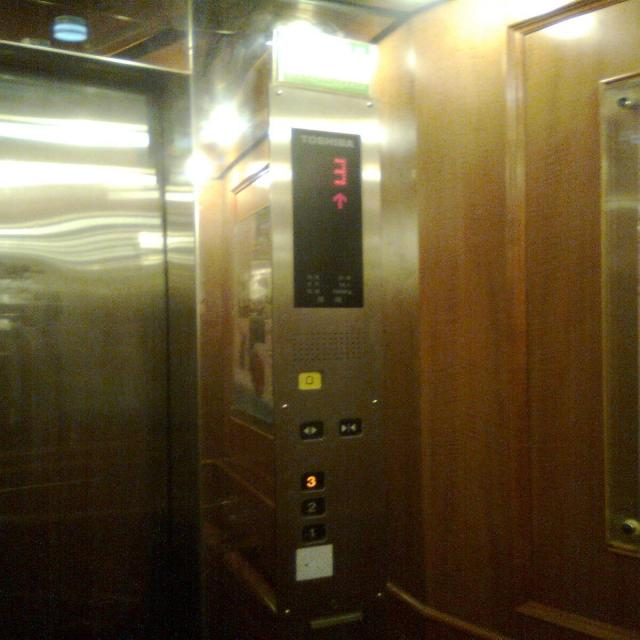1: (299, 521, 328, 544)
2: (299, 496, 326, 518)
3: (299, 471, 326, 492)
alarm: (296, 370, 324, 390)
close: (337, 417, 362, 438)
led: (288, 125, 366, 311)
open: (298, 420, 324, 441)
